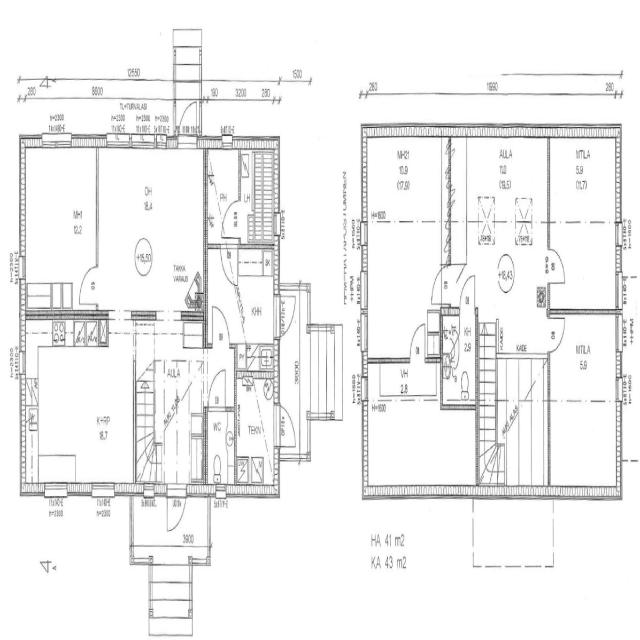door: (277, 283, 299, 340), (544, 241, 570, 286), (176, 100, 200, 148), (276, 403, 298, 450), (546, 310, 568, 356), (210, 303, 232, 347), (166, 488, 187, 534), (208, 365, 228, 412), (220, 240, 240, 287), (221, 198, 240, 242), (79, 261, 98, 305), (458, 272, 478, 312), (409, 318, 427, 361), (429, 265, 446, 308), (547, 186, 564, 226), (245, 334, 260, 362)
window: (87, 478, 117, 507), (37, 129, 71, 152), (43, 481, 68, 512), (446, 401, 472, 417)
zone: (20, 329, 136, 495), (362, 127, 444, 361), (96, 146, 206, 309), (461, 132, 549, 301), (548, 312, 620, 502), (547, 128, 620, 314), (21, 143, 99, 313), (495, 352, 551, 490), (158, 348, 202, 493), (234, 370, 279, 491), (236, 243, 278, 364), (616, 255, 640, 452), (205, 145, 242, 241), (307, 326, 344, 420), (442, 305, 476, 407), (204, 403, 237, 489)
